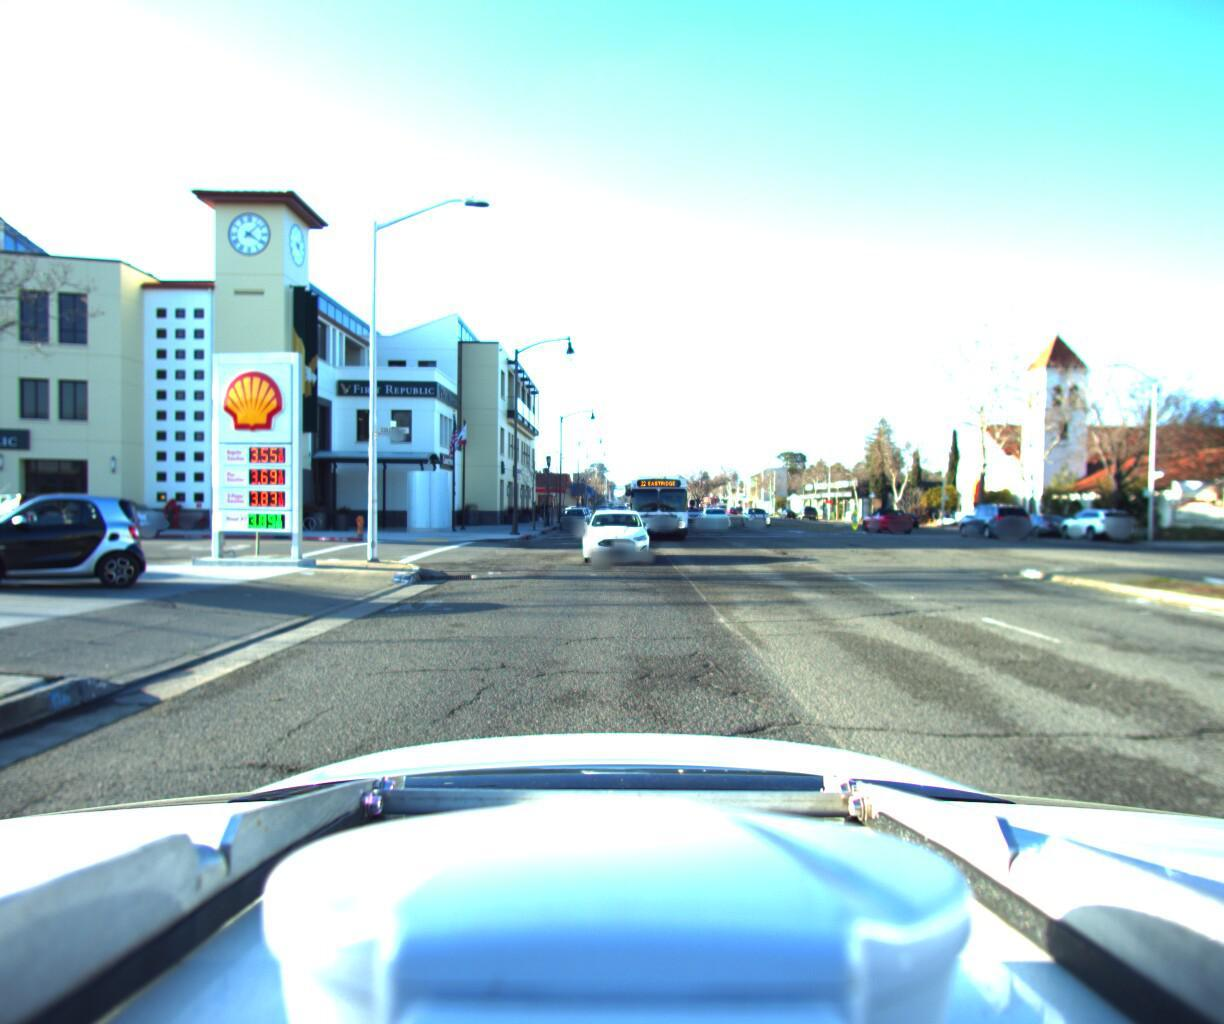bus: (620, 460, 699, 542)
car: (0, 487, 152, 596), (51, 494, 177, 537), (578, 497, 651, 562), (0, 489, 72, 538), (943, 493, 1028, 533), (1050, 499, 1136, 538), (1004, 505, 1073, 534), (850, 499, 906, 525), (1200, 504, 1224, 553), (700, 497, 737, 522), (739, 496, 773, 521), (558, 500, 587, 525), (884, 504, 921, 522), (680, 504, 706, 524)
